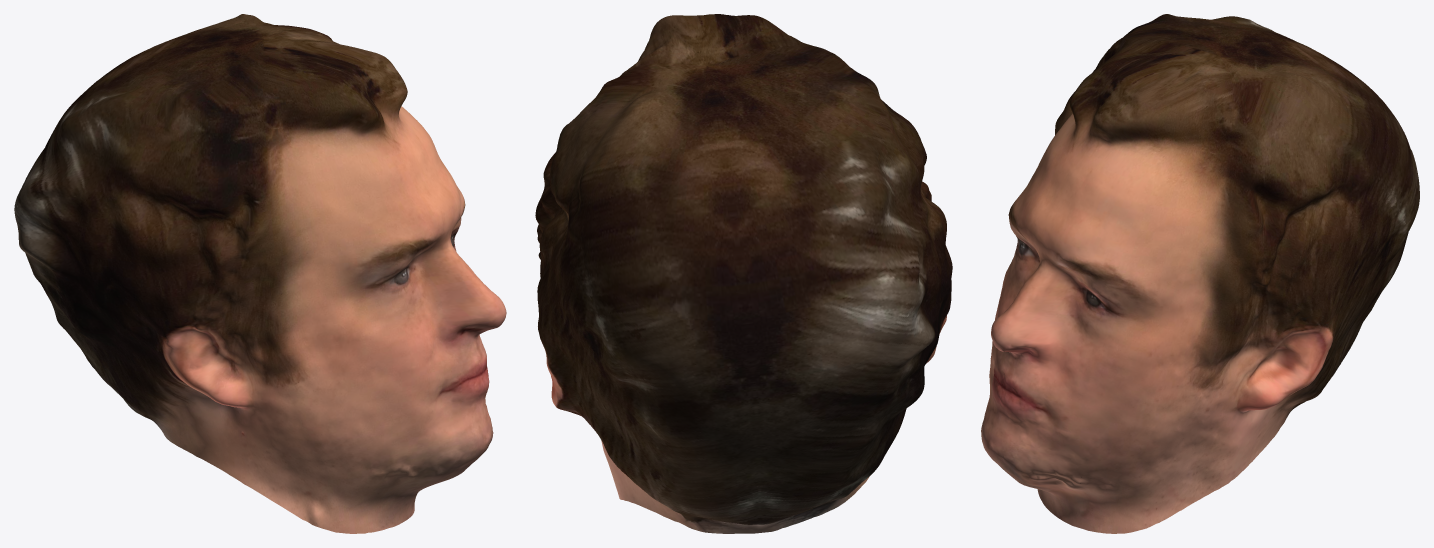
Rendered from asset.glb.
3 renders of one model, left to right at view 1: azimuth 30°, elevation 25°; view 2: azimuth 150°, elevation 25°; view 3: azimuth 270°, elevation 25°, orthographic. The views are drawn at different scales.
Parts seen in each view (by area): view 1: texture_group_0; view 2: texture_group_0; view 3: texture_group_0.
Boxes of the visible parts, x1,y1,x2,y2 form: texture_group_0: (14,14,506,533); texture_group_0: (535,14,952,533); texture_group_0: (981,14,1419,533).
Size of the model in its own units: 1.52 by 1.78 by 1.61.
Materials: 1 (1 with a texture image).
